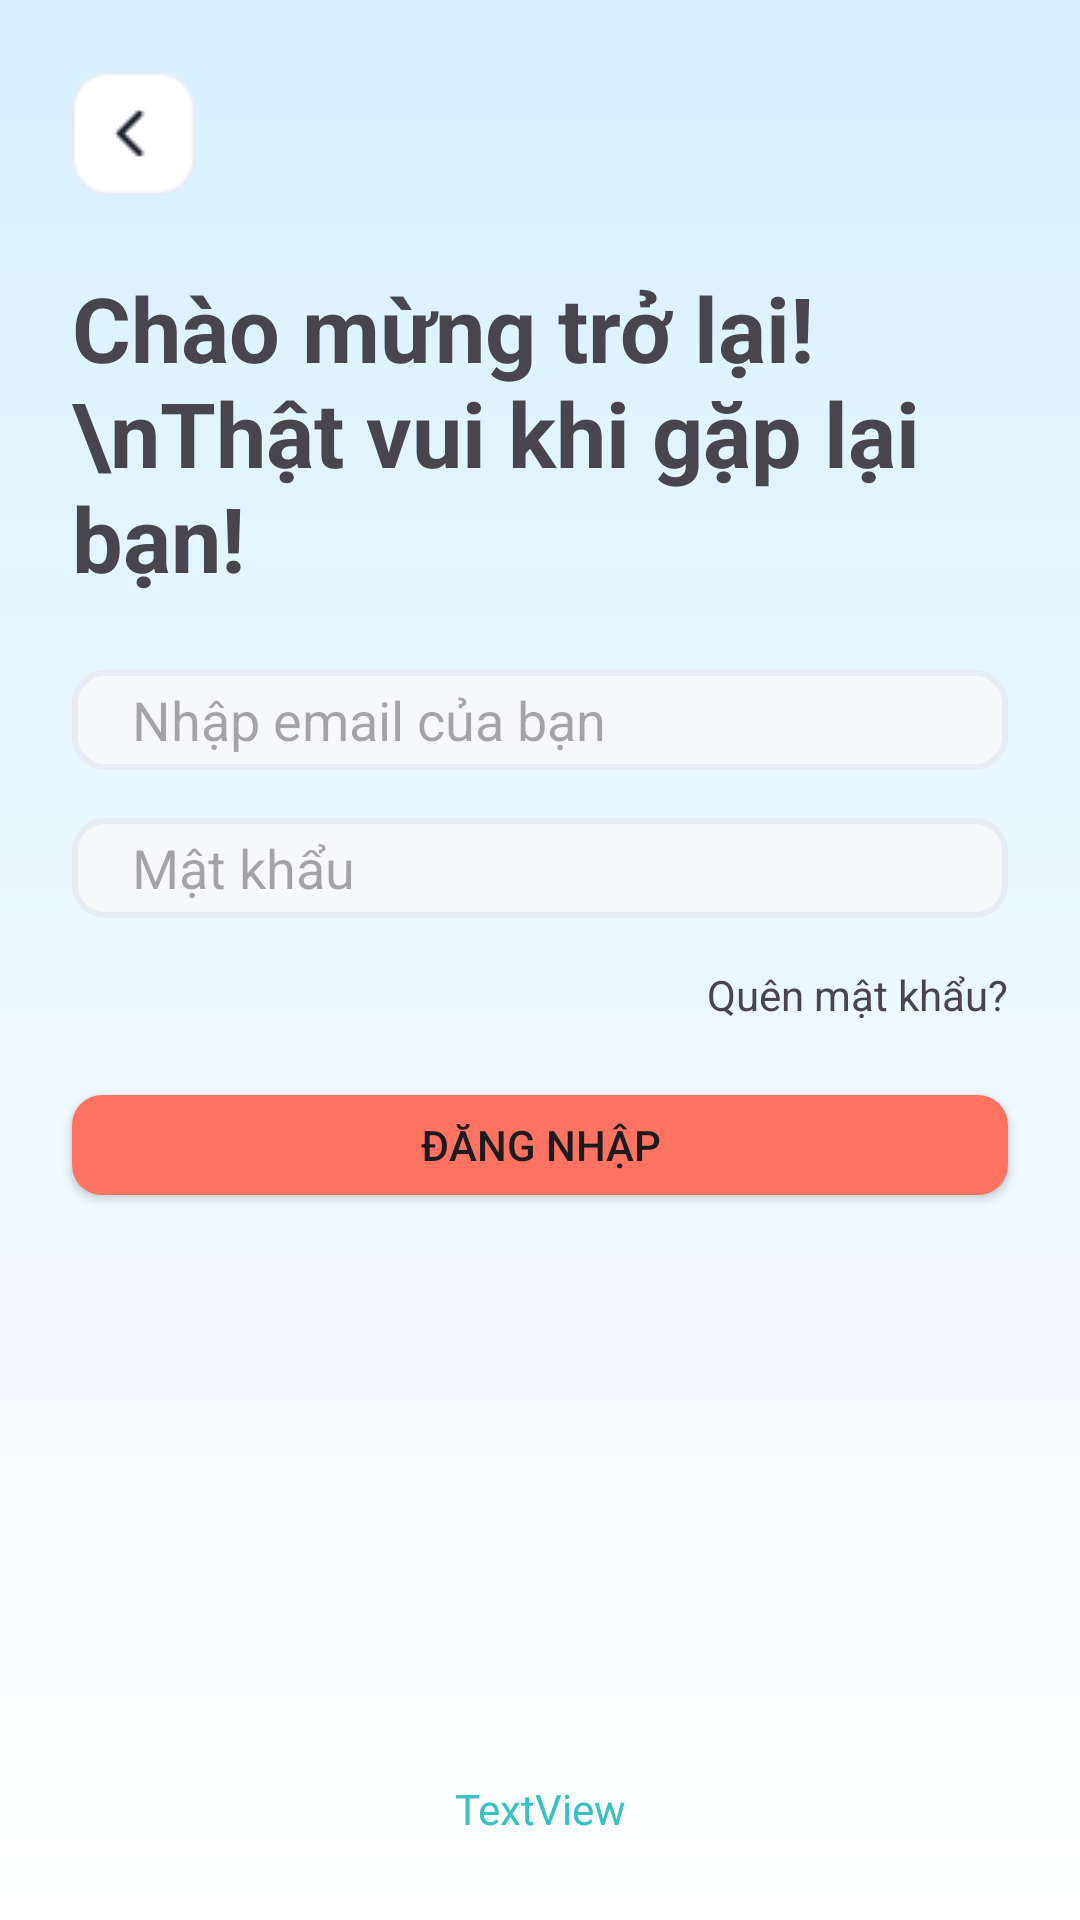

Icon click points for this 1080w x 1920h phone screenshot, format [x,y]:
back: [133,133]
